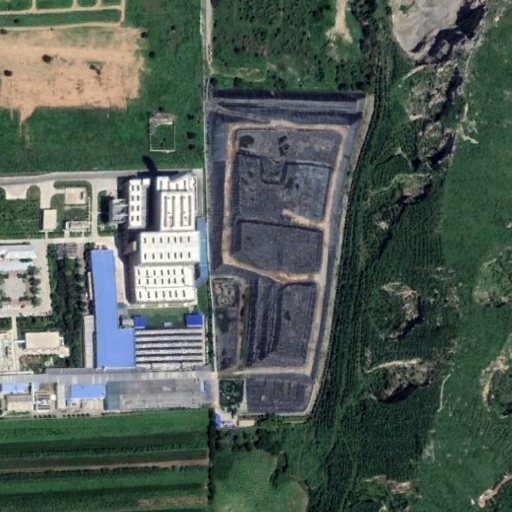lf: (206, 91, 363, 416)
